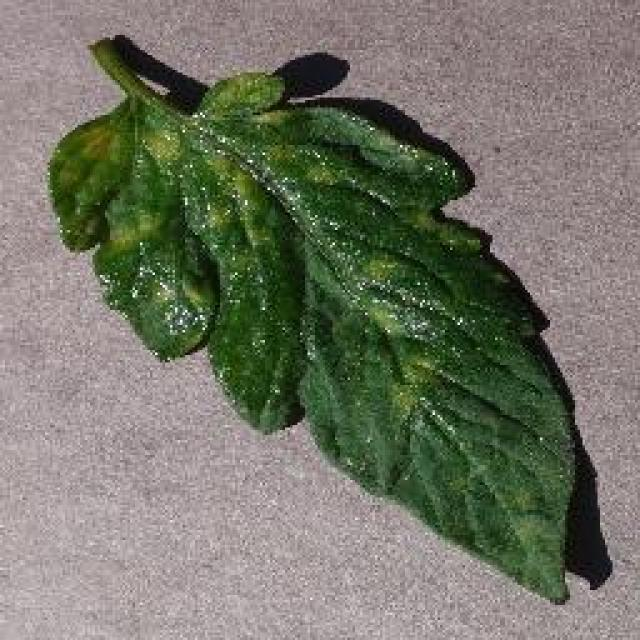Tomato___Leaf_Mold: (50, 45, 572, 598)
